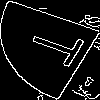T: (25, 25, 97, 72)
